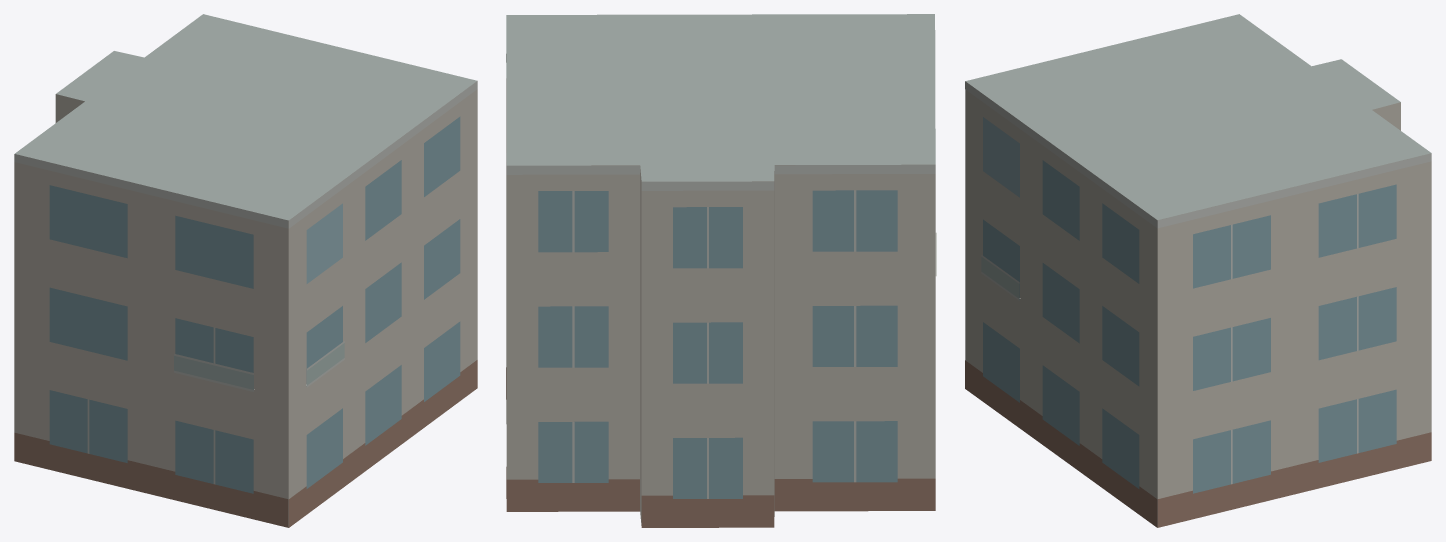
File: survey-upis-32709351.glb
The picture shows the model from 3 angles, left to right: view 1: azimuth 30°, elevation 25°; view 2: azimuth 150°, elevation 25°; view 3: azimuth 270°, elevation 25°; orthographic projection. The views are drawn at different scales.
Parts seen in each view (by area): view 1: survey-upis-32709351.tmp; view 2: survey-upis-32709351.tmp; view 3: survey-upis-32709351.tmp.
Part boxes in pixels (x1=…): survey-upis-32709351.tmp: x1=14, y1=14, x2=477, y2=527; survey-upis-32709351.tmp: x1=506, y1=14, x2=936, y2=527; survey-upis-32709351.tmp: x1=965, y1=14, x2=1431, y2=527.
Bounding box in the file's own units: 13.16 × 9.15 × 12.58.
